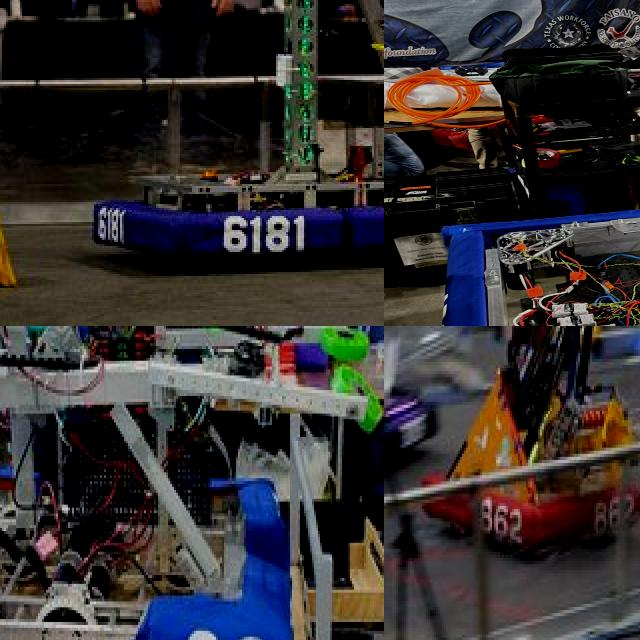FRC-Robots: (0, 326, 313, 640), (75, 0, 384, 279), (489, 326, 640, 580), (428, 162, 640, 326), (384, 326, 438, 462)
